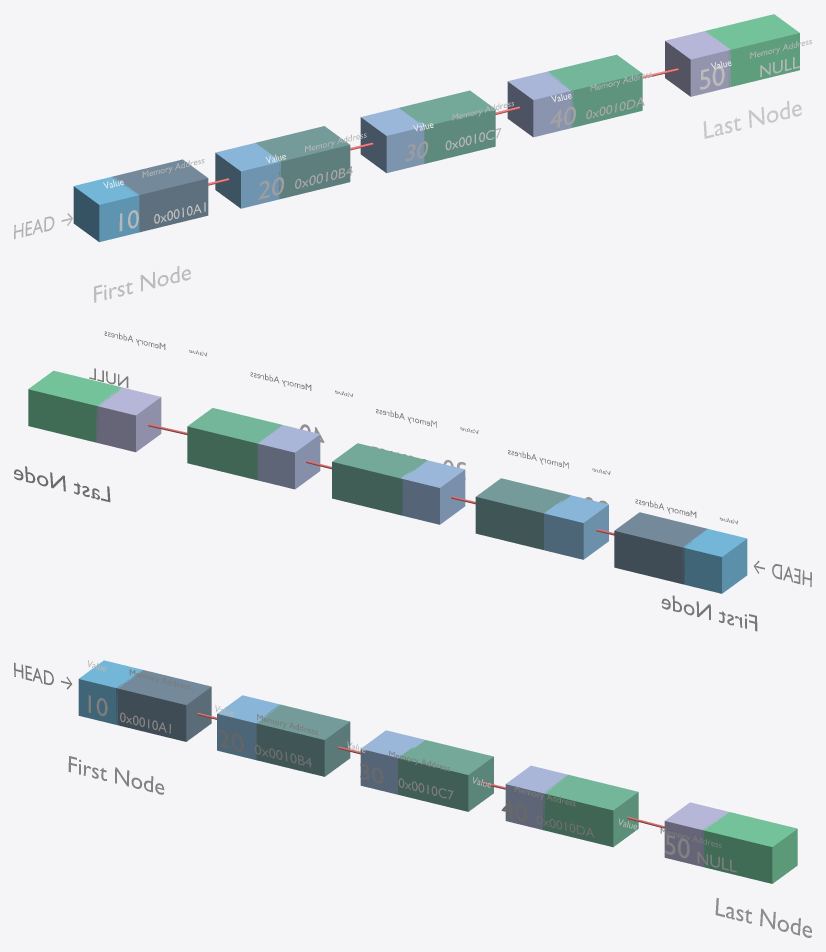
Rendered from linked_list.glb.
The picture shows the model from 3 angles, top to bottom: view 1: azimuth 30°, elevation 25°; view 2: azimuth 150°, elevation 25°; view 3: azimuth 330°, elevation 25°; orthographic projection.
Visible parts, largest first — view 1: pointer_box_2.001, pointer_box_3.001, pointer_box_4.001, pointer_box_0.001, pointer_box_1.001, value_box_0.001, value_box_1.001, value_box_3.001, value_box_2.001, value_box_4.001, Text.014, Text.013; view 2: pointer_box_3.001, pointer_box_2.001, pointer_box_0.001, pointer_box_4.001, pointer_box_1.001, value_box_4.001, value_box_0.001, value_box_1.001, value_box_2.001, value_box_3.001, Text.014, Text.013; view 3: pointer_box_3.001, pointer_box_4.001, pointer_box_0.001, pointer_box_2.001, pointer_box_1.001, value_box_0.001, value_box_1.001, value_box_4.001, value_box_3.001, value_box_2.001, Text.014, Text.013.
Part boxes in pixels (left/top/right/bottom): pointer_box_2.001: left=399, top=90, right=495, bottom=163; pointer_box_3.001: left=546, top=54, right=642, bottom=127; pointer_box_4.001: left=705, top=14, right=799, bottom=87; pointer_box_0.001: left=112, top=159, right=208, bottom=232; pointer_box_1.001: left=255, top=126, right=350, bottom=199; value_box_0.001: left=73, top=176, right=139, bottom=242; value_box_1.001: left=215, top=143, right=280, bottom=208; value_box_3.001: left=507, top=71, right=573, bottom=137; value_box_2.001: left=360, top=108, right=425, bottom=173; value_box_4.001: left=665, top=31, right=730, bottom=96; Text.014: left=703, top=100, right=801, bottom=138; Text.013: left=94, top=266, right=190, bottom=302; pointer_box_3.001: left=187, top=408, right=282, bottom=480; pointer_box_2.001: left=332, top=443, right=427, bottom=515; pointer_box_0.001: left=614, top=512, right=707, bottom=584; pointer_box_4.001: left=28, top=370, right=122, bottom=442; pointer_box_1.001: left=475, top=478, right=570, bottom=549; value_box_4.001: left=96, top=387, right=161, bottom=452; value_box_0.001: left=682, top=529, right=747, bottom=593; value_box_1.001: left=544, top=495, right=608, bottom=559; value_box_2.001: left=400, top=460, right=465, bottom=524; value_box_3.001: left=257, top=425, right=320, bottom=489; Text.014: left=14, top=466, right=110, bottom=502; Text.013: left=661, top=595, right=757, bottom=631; pointer_box_3.001: left=543, top=774, right=638, bottom=847; pointer_box_4.001: left=702, top=812, right=797, bottom=883; pointer_box_0.001: left=116, top=670, right=211, bottom=741; pointer_box_2.001: left=398, top=740, right=493, bottom=811; pointer_box_1.001: left=256, top=704, right=350, bottom=776; value_box_0.001: left=78, top=660, right=142, bottom=725; value_box_1.001: left=217, top=695, right=279, bottom=760; value_box_4.001: left=664, top=802, right=728, bottom=867; value_box_3.001: left=505, top=765, right=567, bottom=829; value_box_2.001: left=360, top=730, right=424, bottom=794; Text.014: left=715, top=898, right=811, bottom=937; Text.013: left=68, top=756, right=164, bottom=794.
Bounding box in the file's own units: 35.8 × 5.38 × 4.71.
